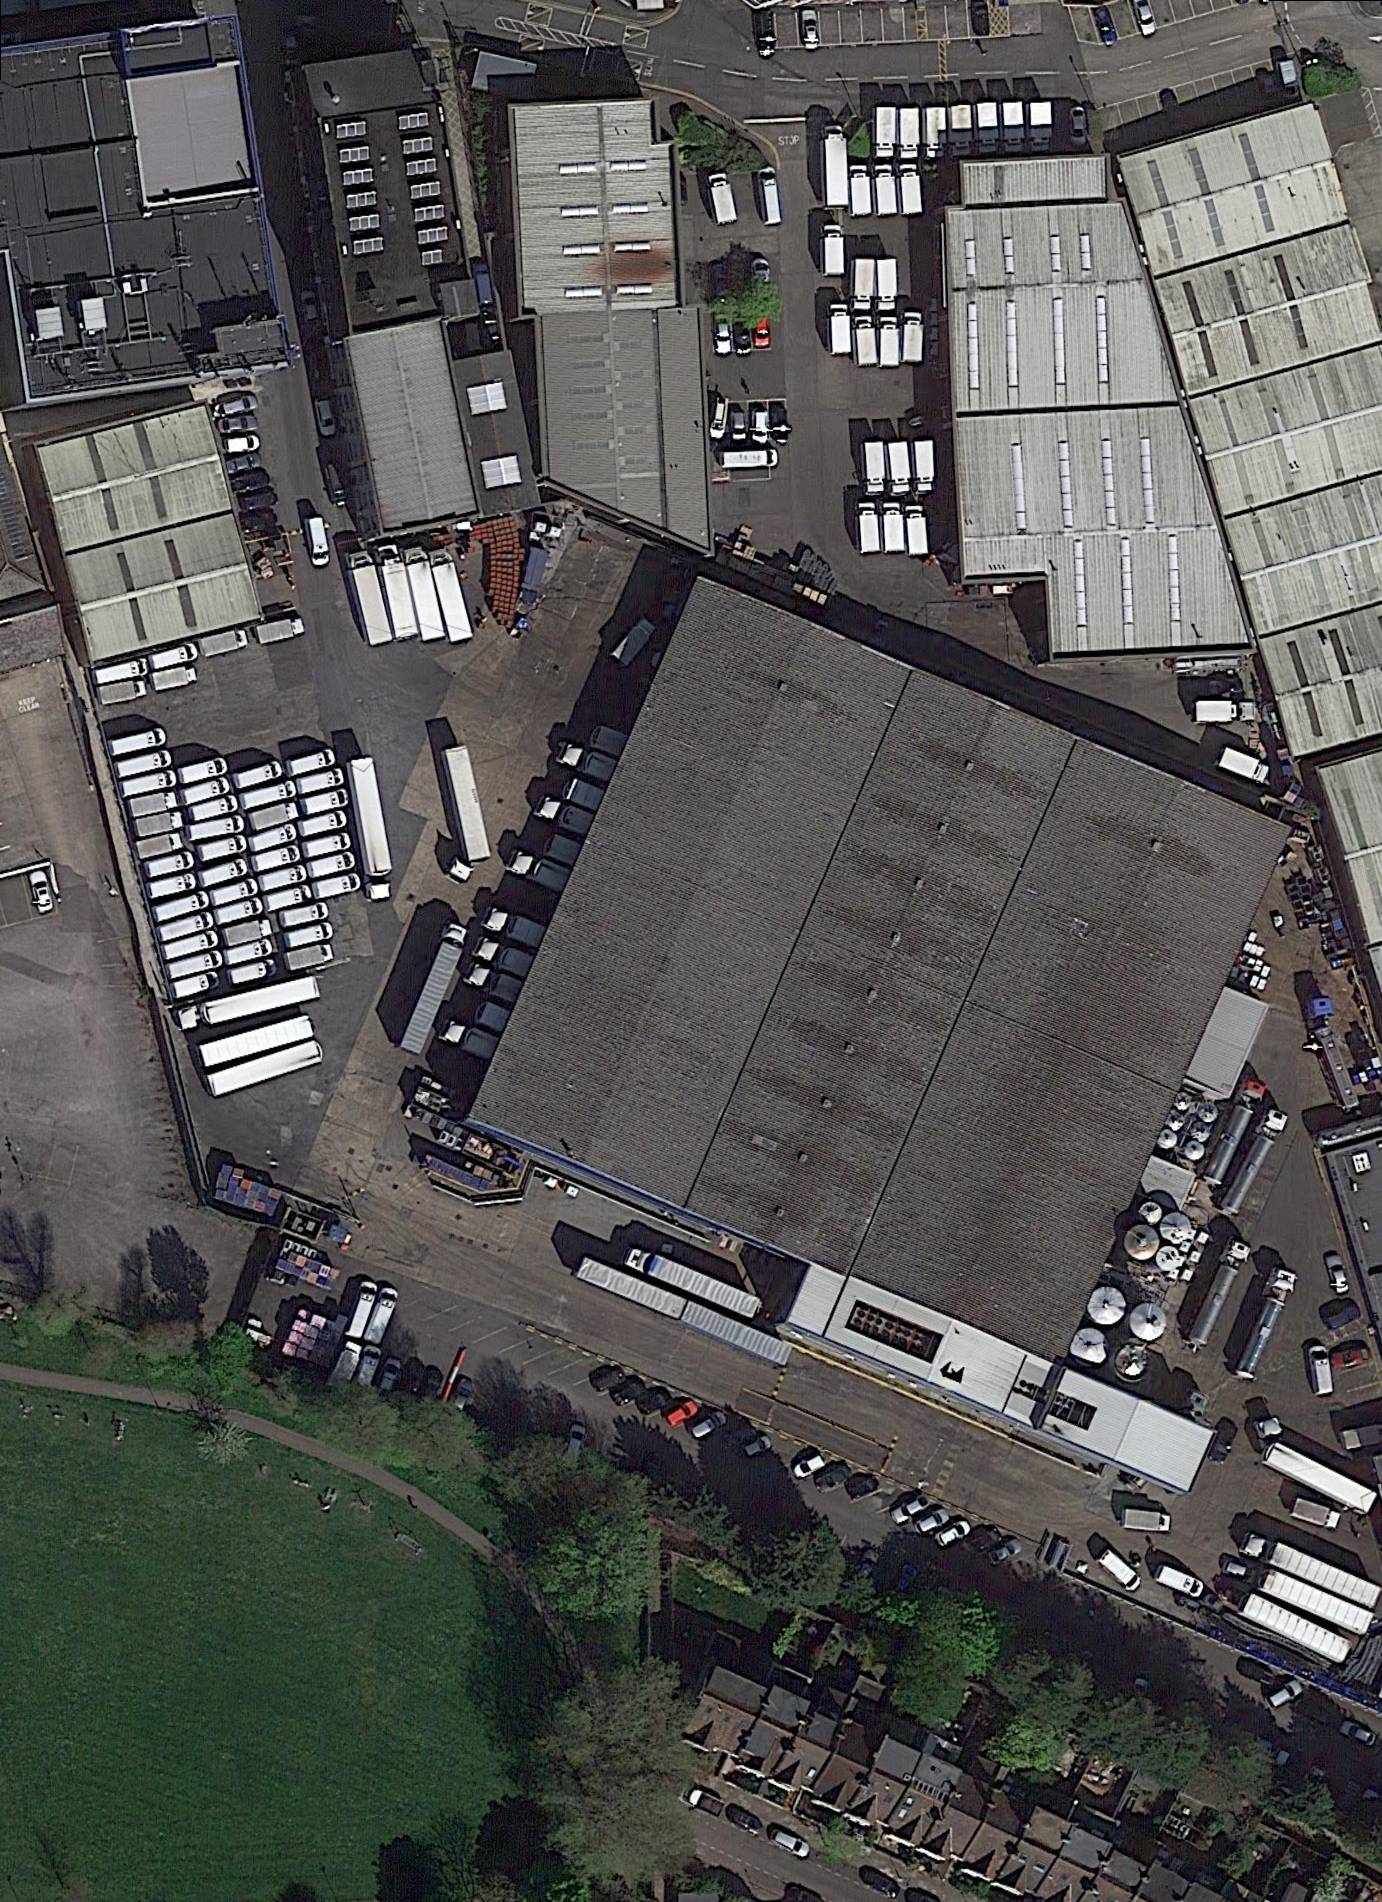large vehicle: (1236, 1406, 1379, 1522), (1220, 1552, 1376, 1638), (1216, 1581, 1356, 1668), (1238, 1528, 1382, 1612), (621, 1242, 766, 1322), (394, 918, 472, 1057), (435, 742, 501, 892), (171, 972, 323, 1037), (1215, 1105, 1294, 1221), (1195, 1074, 1270, 1191), (1230, 1262, 1301, 1384), (1183, 1237, 1255, 1352), (346, 757, 398, 903), (1303, 994, 1362, 1115), (342, 547, 397, 653), (424, 543, 477, 648), (397, 541, 448, 647), (371, 541, 420, 644), (506, 846, 572, 896), (480, 903, 548, 951), (606, 615, 661, 670), (554, 737, 619, 783), (437, 1016, 500, 1062), (533, 793, 597, 837), (471, 934, 535, 978), (321, 1337, 366, 1398), (819, 121, 850, 209), (462, 961, 524, 1003), (1215, 744, 1274, 788), (152, 908, 219, 946), (105, 723, 170, 761), (363, 1283, 401, 1348), (344, 1277, 383, 1339), (110, 747, 175, 783), (237, 777, 300, 814), (517, 544, 552, 610), (1094, 1548, 1144, 1594), (161, 927, 223, 964), (163, 948, 226, 984), (151, 888, 212, 925), (172, 752, 231, 790), (168, 966, 226, 1004), (1288, 1493, 1343, 1532), (115, 767, 178, 801), (195, 855, 250, 893), (705, 169, 741, 227), (247, 798, 303, 835), (231, 757, 284, 795), (184, 814, 248, 845), (754, 163, 784, 229), (194, 832, 250, 867), (179, 774, 233, 810), (220, 915, 274, 951), (351, 1343, 388, 1395), (186, 793, 244, 826), (1155, 1562, 1204, 1601), (247, 820, 300, 856), (212, 893, 266, 928), (1192, 699, 1257, 728), (131, 807, 186, 841), (142, 848, 197, 882), (226, 956, 281, 990), (294, 808, 350, 841), (281, 919, 337, 952), (284, 746, 338, 780), (310, 869, 365, 902), (261, 882, 316, 915), (197, 626, 252, 659), (221, 936, 276, 969), (294, 764, 348, 797), (249, 842, 303, 875), (255, 862, 309, 895), (208, 875, 262, 908), (284, 941, 338, 974), (126, 788, 181, 820), (145, 870, 198, 903), (307, 848, 360, 881), (277, 899, 330, 932), (298, 786, 352, 818), (94, 677, 148, 709), (999, 99, 1028, 158), (255, 614, 308, 646), (135, 829, 186, 862), (971, 101, 1001, 157), (947, 101, 975, 161), (911, 437, 939, 497), (859, 438, 887, 497), (871, 161, 900, 217), (852, 314, 881, 370), (885, 440, 913, 498), (855, 498, 884, 554), (300, 830, 352, 861), (921, 106, 950, 161), (898, 162, 926, 218), (1026, 101, 1055, 155), (1120, 1506, 1174, 1535), (880, 499, 908, 554), (850, 257, 877, 314), (304, 513, 331, 569), (820, 224, 848, 277), (150, 663, 199, 693), (828, 301, 854, 356), (906, 502, 932, 557), (1307, 1345, 1334, 1396), (897, 105, 921, 162), (717, 447, 779, 469), (872, 106, 897, 160), (849, 161, 873, 217), (875, 257, 899, 313), (903, 309, 927, 364), (878, 315, 902, 370)
small vehicle: (767, 1826, 814, 1860), (889, 1492, 935, 1526), (811, 1462, 856, 1495), (1264, 1678, 1306, 1712), (982, 1536, 1024, 1568), (28, 870, 56, 916), (690, 1410, 729, 1442), (662, 1396, 699, 1429), (915, 1506, 954, 1537), (934, 1517, 972, 1548), (312, 398, 340, 439), (1323, 1254, 1351, 1295), (790, 1452, 828, 1482), (218, 393, 259, 420), (769, 403, 791, 444), (1067, 104, 1087, 149), (225, 452, 261, 476), (222, 433, 261, 454), (219, 415, 258, 434), (729, 408, 749, 441), (752, 408, 769, 443)
storage tank: (1068, 1326, 1110, 1372), (1110, 1342, 1153, 1385), (1087, 1283, 1128, 1327), (1129, 1299, 1170, 1341), (1121, 1221, 1161, 1264), (1161, 1210, 1194, 1246), (1137, 1199, 1166, 1227)
